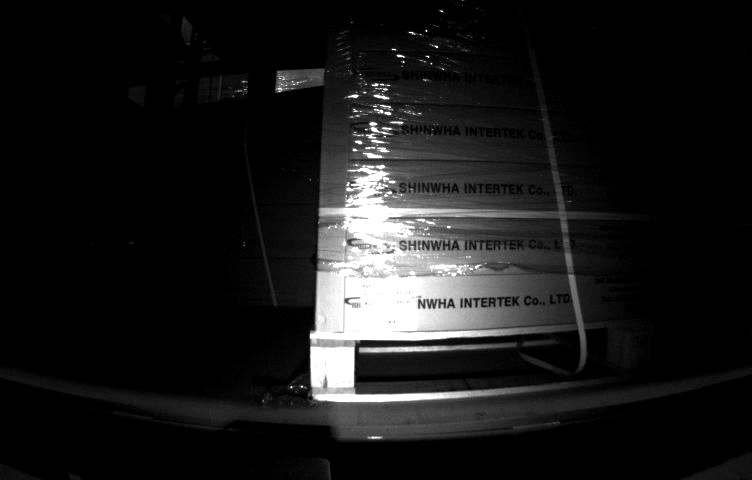True Barcode: (362, 282, 418, 331)
